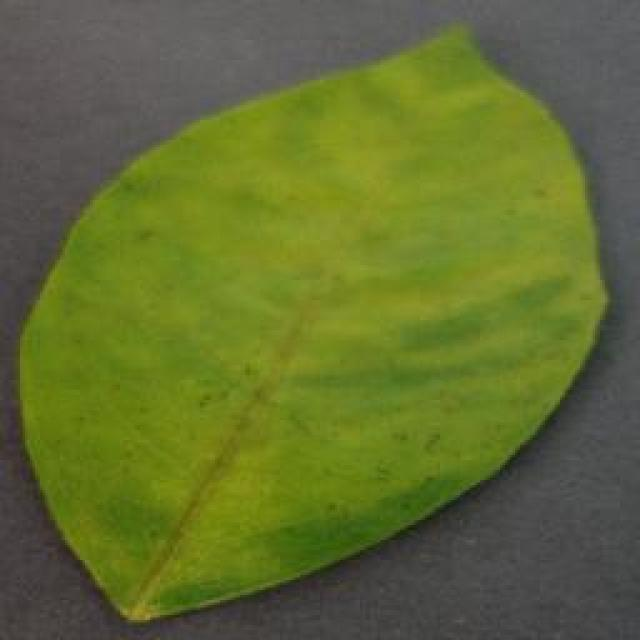Orange_Haunglongbing_Citrus_greening: (98, 145, 532, 519)
